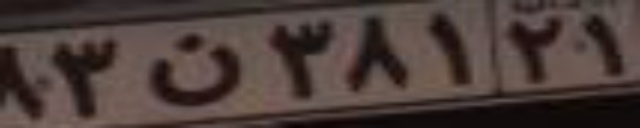1: (428, 14, 470, 84), (580, 15, 623, 75)
2: (506, 16, 569, 84)
3: (264, 21, 338, 100), (51, 38, 120, 116)
8: (347, 15, 410, 90), (1, 44, 45, 119)
non: (145, 32, 242, 106)
